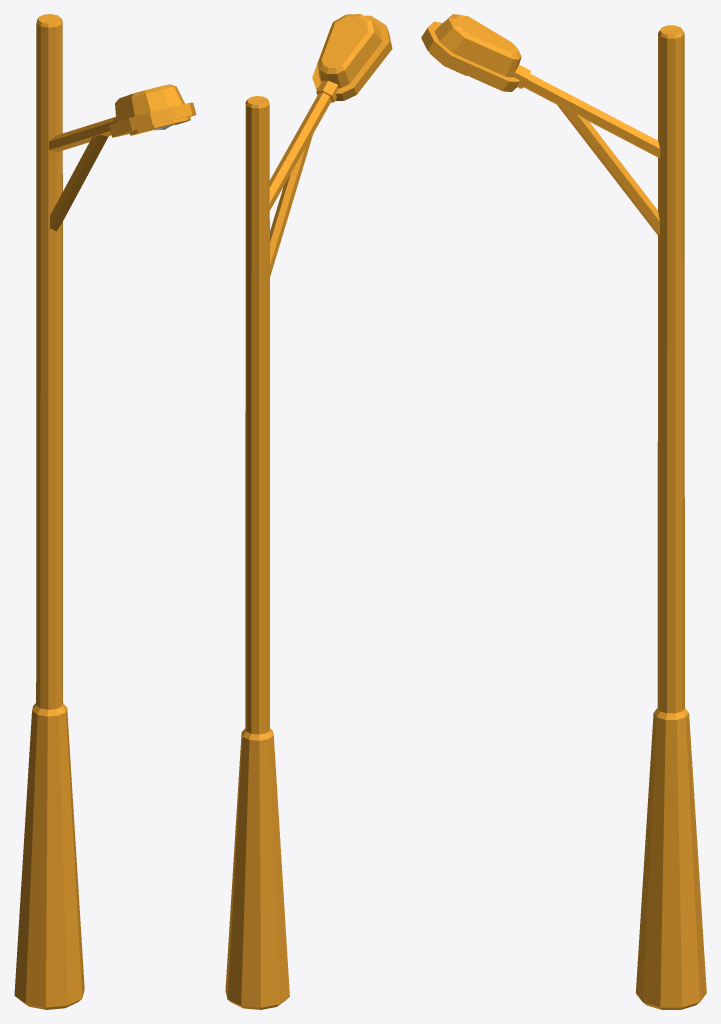
The model's file is SM_Reflector_Single_Racetrack_10m.fbx.
The picture shows the model from 3 angles, left to right: view 1: azimuth 30°, elevation 25°; view 2: azimuth 150°, elevation 25°; view 3: azimuth 270°, elevation 25°; orthographic projection. The views are drawn at different scales.
Parts seen in each view (by area): view 1: SM_Reflector_Single_Racetrack_10m; view 2: SM_Reflector_Single_Racetrack_10m; view 3: SM_Reflector_Single_Racetrack_10m.
Part boxes in pixels (x1,y1,x2,y2): SM_Reflector_Single_Racetrack_10m: (14,14,196,1009); SM_Reflector_Single_Racetrack_10m: (225,14,392,1009); SM_Reflector_Single_Racetrack_10m: (421,14,706,1009).
Size of the model in its own units: 0.6848 by 10.07 by 2.66.
